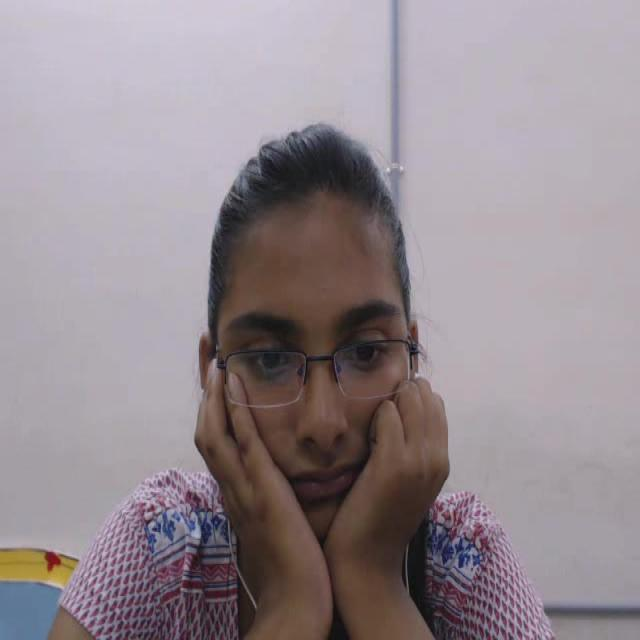Bored: (168, 65, 514, 628)
